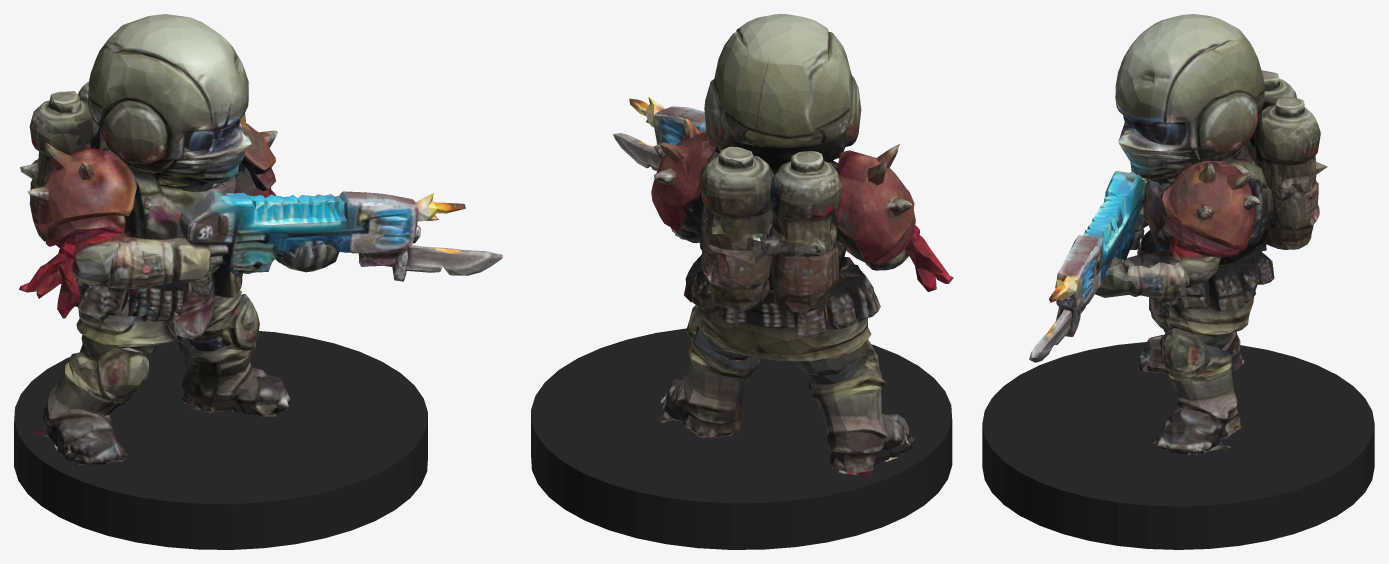
The model's file is bl-gunner-plasma-gun.glb.
The picture shows the model from 3 angles, left to right: view 1: azimuth 30°, elevation 25°; view 2: azimuth 150°, elevation 25°; view 3: azimuth 270°, elevation 25°; orthographic projection. The views are drawn at different scales.
Visible parts, largest first — view 1: figure, base; view 2: figure, base; view 3: figure, base.
Part boxes in pixels (x1=…): figure: x1=19, y1=14, x2=502, y2=464; base: x1=14, y1=331, x2=427, y2=549; figure: x1=613, y1=14, x2=953, y2=476; base: x1=531, y1=328, x2=952, y2=549; figure: x1=1029, y1=14, x2=1327, y2=454; base: x1=982, y1=342, x2=1374, y2=549.
Size of the model in its own units: 1.12 by 1.17 by 0.9843.
2 materials, 1 textured.
